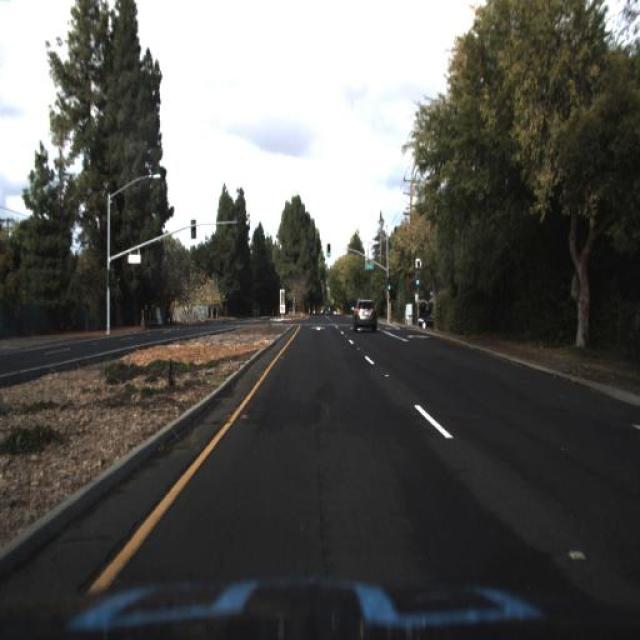car: (352, 297, 378, 332), (414, 310, 432, 336)
trafficLight-GreenLeft: (412, 268, 422, 290), (325, 242, 334, 263), (385, 274, 393, 297), (326, 240, 333, 260), (413, 270, 419, 290), (384, 278, 391, 294)
